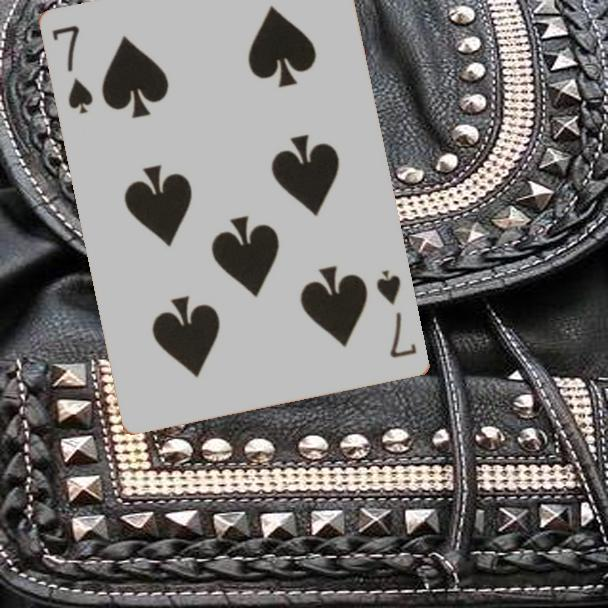s07: (49, 22, 97, 117), (373, 267, 420, 362)
